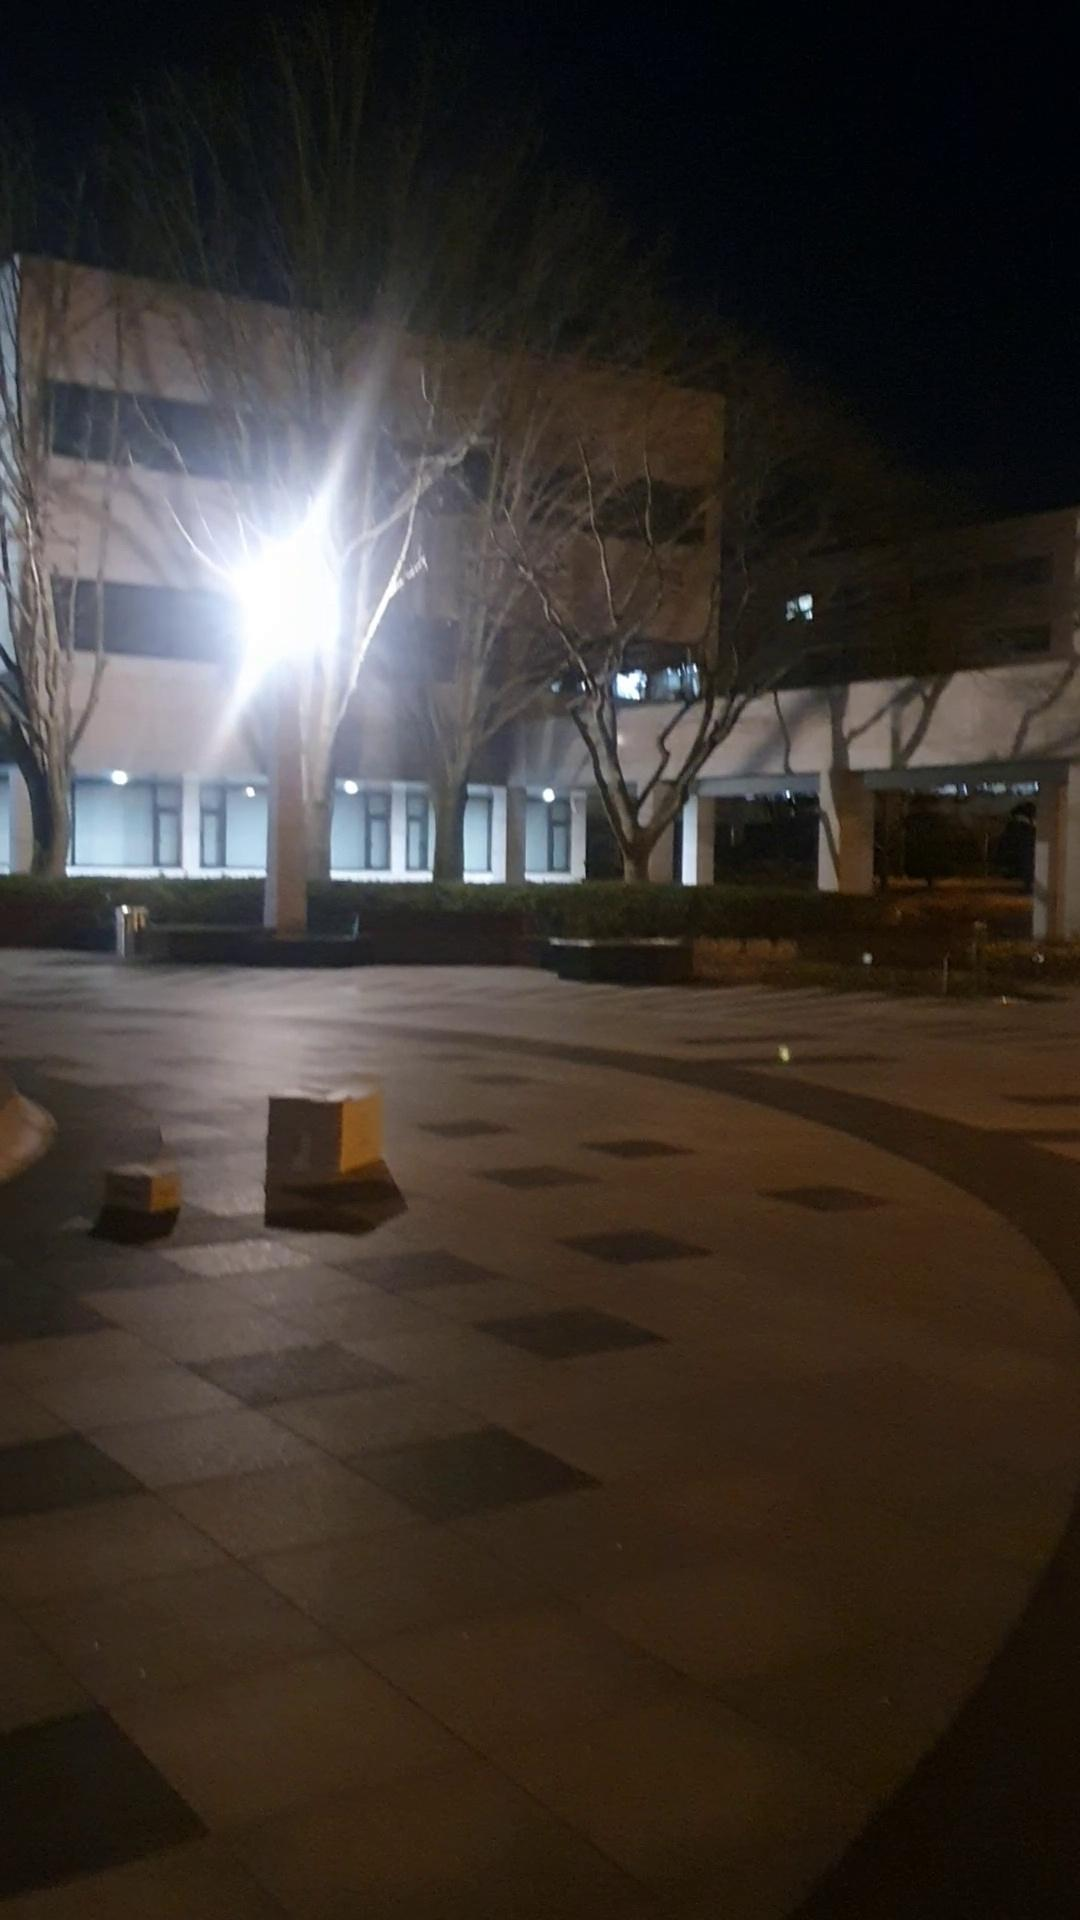Box: (266, 1085, 380, 1175), (102, 1143, 183, 1213)
